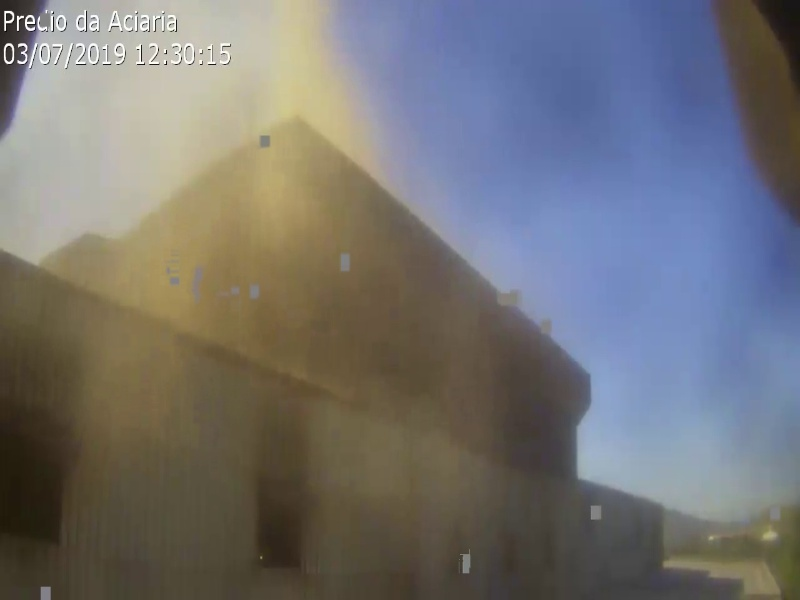Pessimo: (260, 140, 342, 254), (272, 237, 354, 351), (120, 127, 202, 241), (189, 75, 271, 189), (92, 324, 174, 438), (321, 345, 403, 459), (251, 1, 333, 114), (146, 224, 261, 303), (204, 180, 319, 259)
